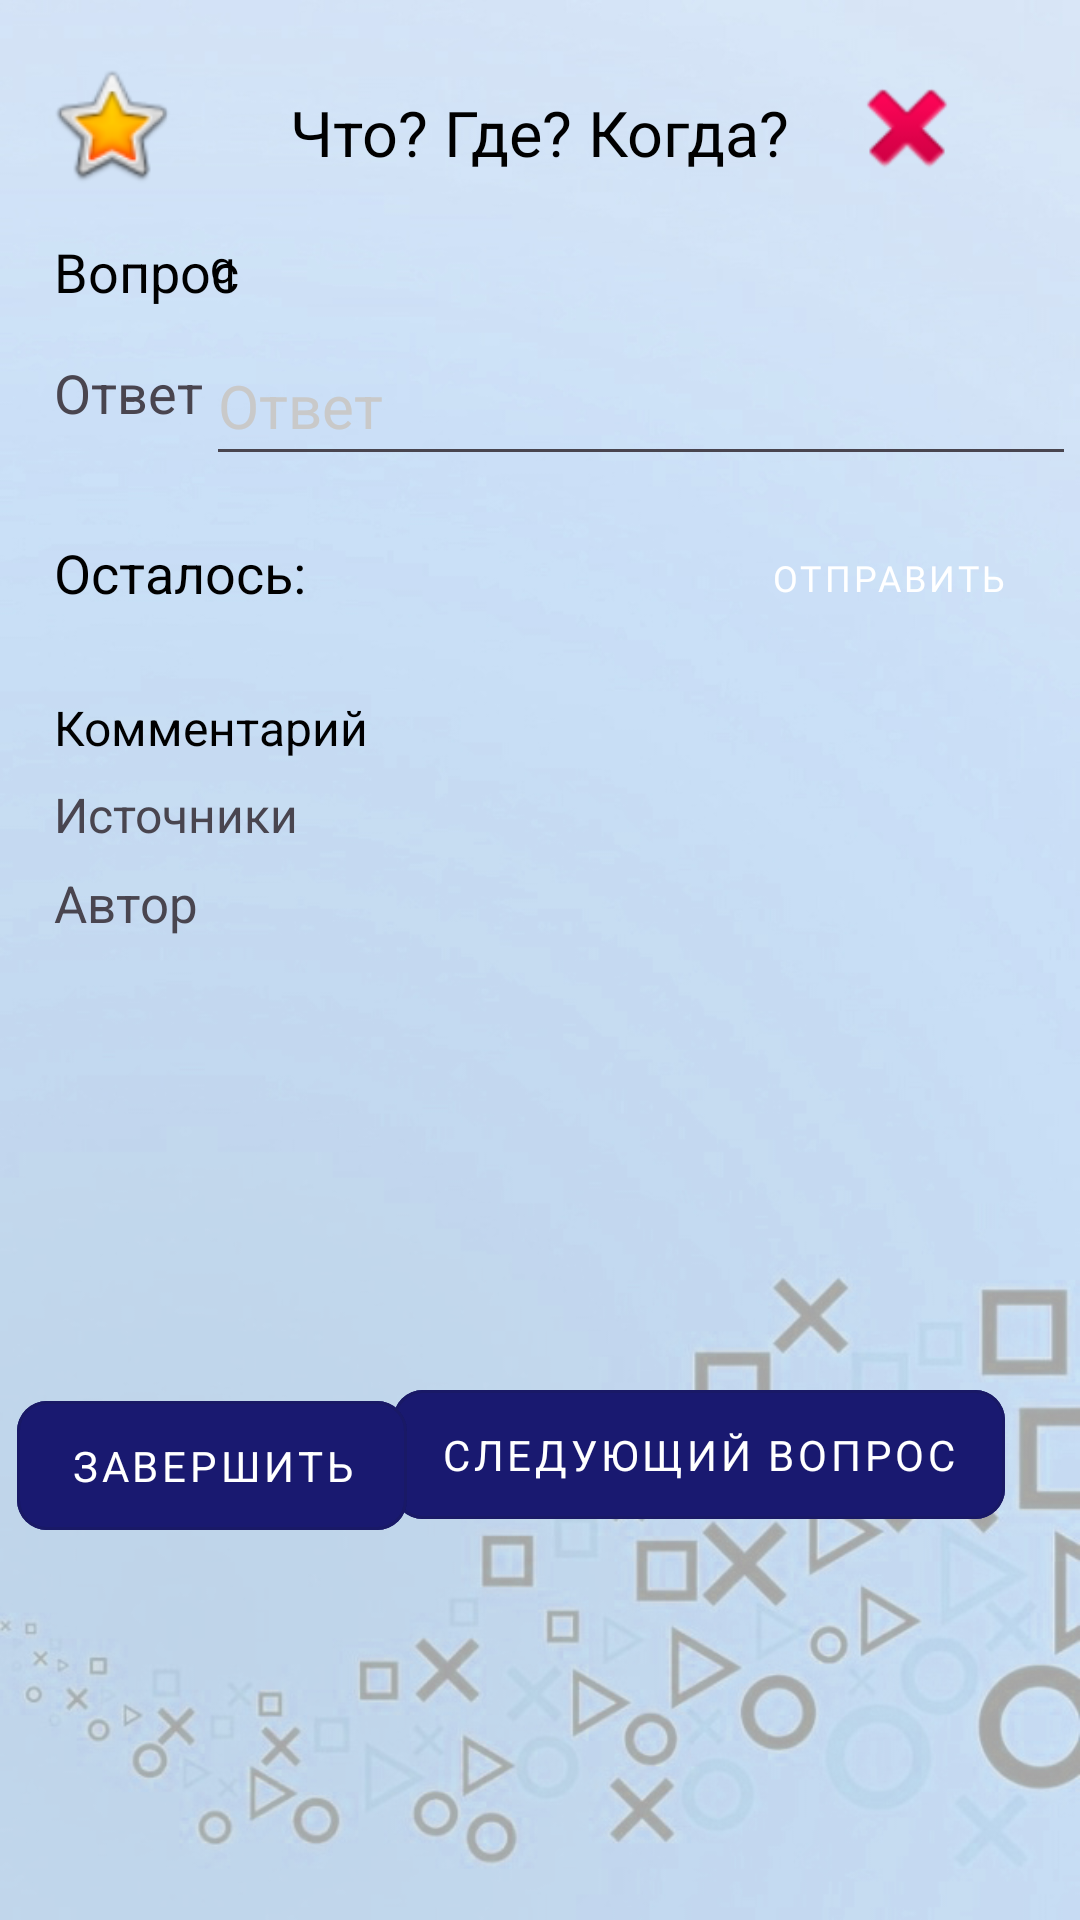

Named icons in this screenshot (1080x1920) and their bounding boxes, (left=x1, top=y1, right=x2, bottom=y2):
delete: (left=867, top=89, right=947, bottom=167)
star on: (left=57, top=72, right=167, bottom=179)
